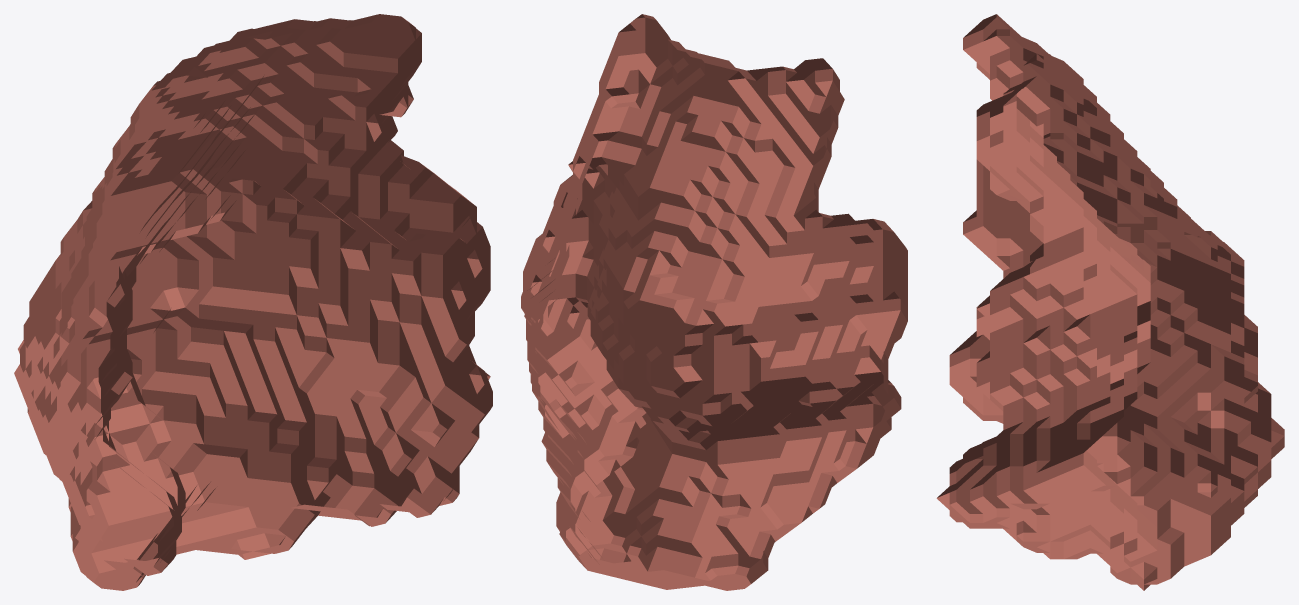
Rendered from region_0166_Vd-vd__ventral_zone_of_ventral_telencephalon_.glb.
3 views of the same model, side by side, from view 1: azimuth 30°, elevation 25°; view 2: azimuth 150°, elevation 25°; view 3: azimuth 270°, elevation 25° (orthographic). The views are drawn at different scales.
Parts seen in each view (by area): view 1: world; view 2: world; view 3: world.
Part boxes in pixels (left/top/right/bottom): world: left=14, top=14, right=492, bottom=590; world: left=521, top=14, right=907, bottom=590; world: left=936, top=14, right=1284, bottom=590.
Bounding box in the file's own units: 0.248 × 0.328 × 0.208.
